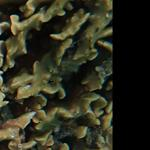dead: (4, 3, 109, 146)
